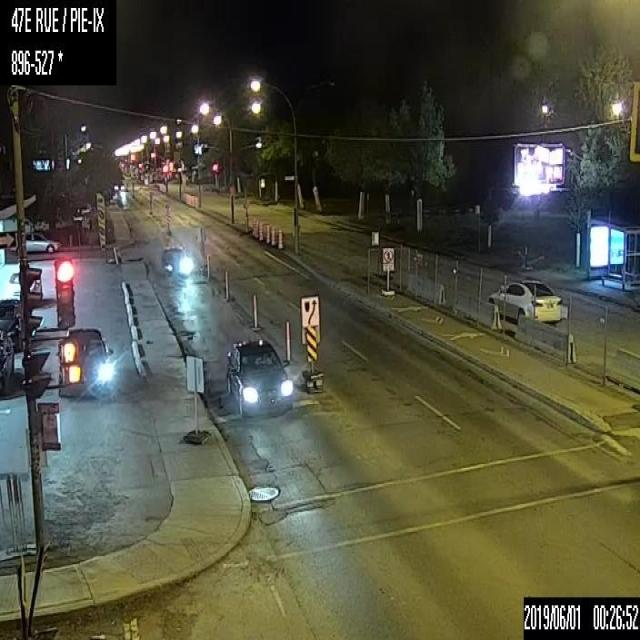construction: (284, 319, 290, 362), (252, 292, 257, 328), (223, 270, 229, 299), (253, 216, 258, 238), (265, 222, 270, 244), (277, 228, 282, 250), (271, 224, 275, 247), (259, 218, 263, 240)
vehicle: (224, 336, 292, 419), (57, 329, 122, 402), (484, 272, 562, 324), (158, 241, 189, 279), (10, 230, 58, 253)
